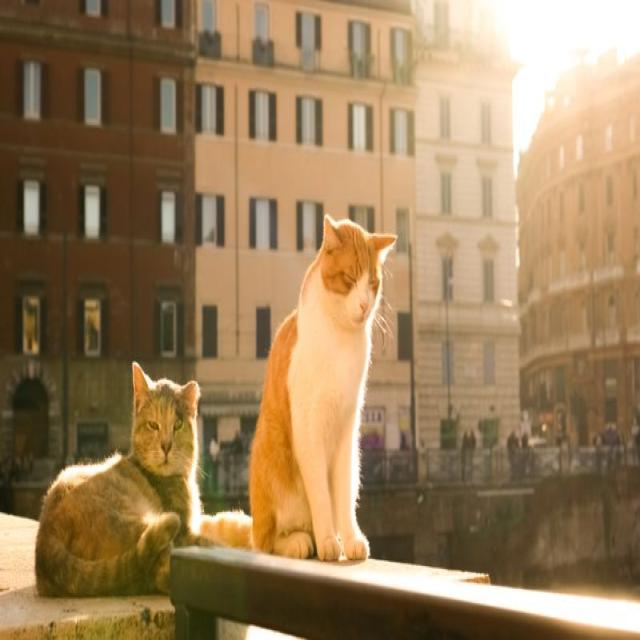cat: (250, 216, 396, 560), (36, 362, 250, 594)
